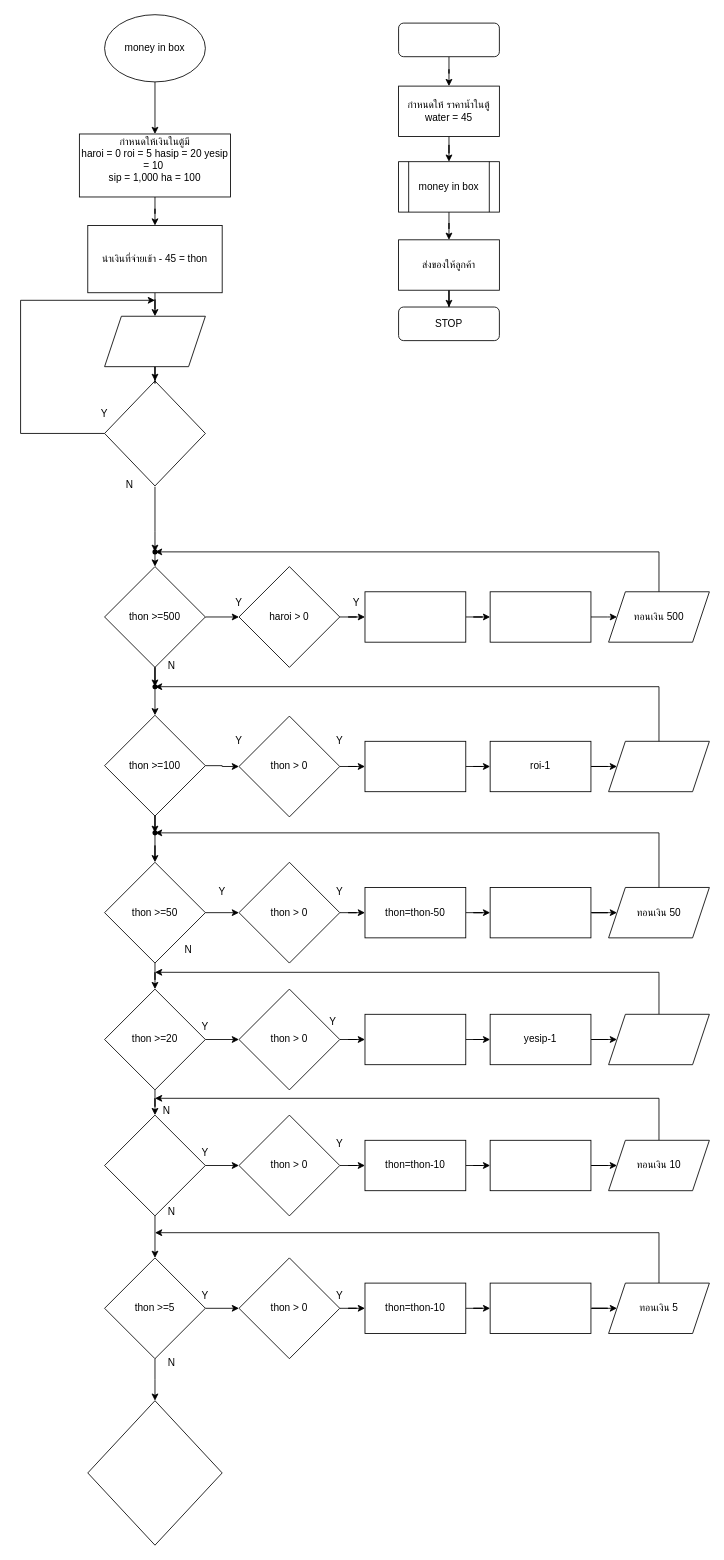
The diagram is 724 pixels wide and 1560 high, and some of its shapes have lost their labels. The shapes that lost their labels are listed below. From the top down, each one's box as (x1, y1, x2, y2) in pixels, then its label:
(398, 22, 499, 57): START
(104, 315, 205, 367): รับค่า เงินที่จ่ายเข้า
(104, 380, 205, 486): ถ้าเงินที่จ่ายเข้า < 45
(364, 591, 466, 642): thon-500=thon
(489, 591, 591, 642): haroi-1
(364, 740, 466, 792): thon=thon-100
(608, 740, 709, 792): ทอนเงิน 100
(489, 887, 591, 938): hasip -1
(364, 1013, 466, 1065): thon=thon-20
(608, 1013, 709, 1065): ทอนเงิน 20
(104, 1114, 205, 1216): thon >=10
(489, 1139, 591, 1191): sip -1
(489, 1282, 591, 1334): ha-1
(87, 1400, 222, 1545): thon
